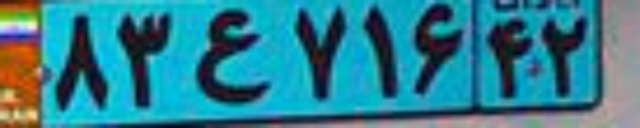1: (360, 4, 396, 98)
2: (542, 16, 591, 97)
3: (117, 11, 173, 110)
4: (486, 19, 533, 98)
6: (413, 3, 464, 95)
7: (291, 8, 348, 103)
8: (50, 12, 115, 110)
ain: (187, 10, 272, 104)
